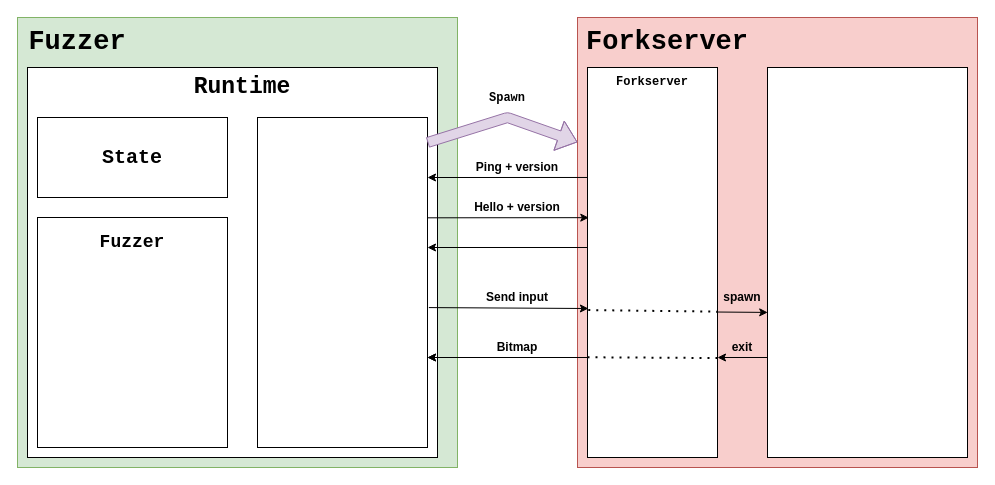
Some shapes in this 995 by 485 pixel diagram are drawn without their labels. Here are the shapes that lost their labels. From the top down, the box of each, then its label:
(256, 116, 428, 448): Forkserver Executor
(766, 66, 968, 458): Target
